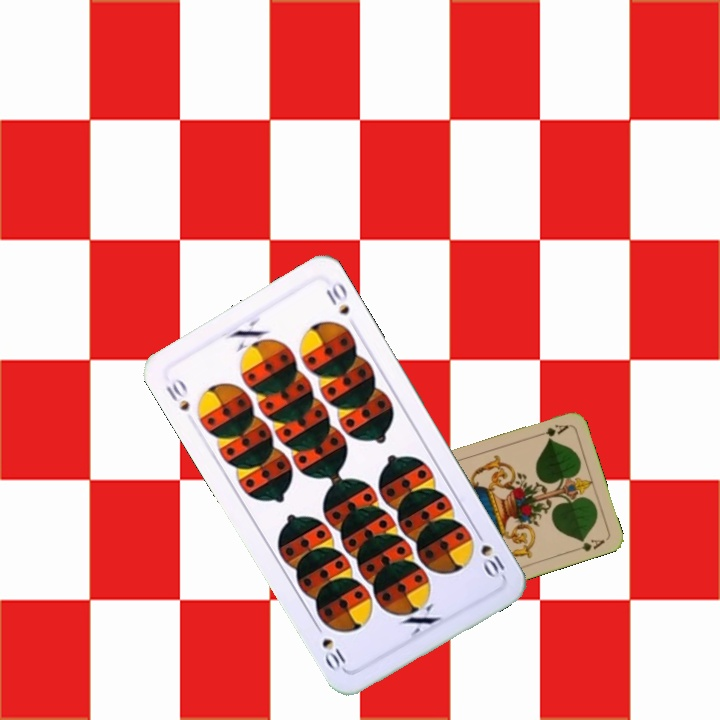GA: (532, 420, 571, 441)
S10: (471, 526, 508, 581), (161, 374, 193, 414)
